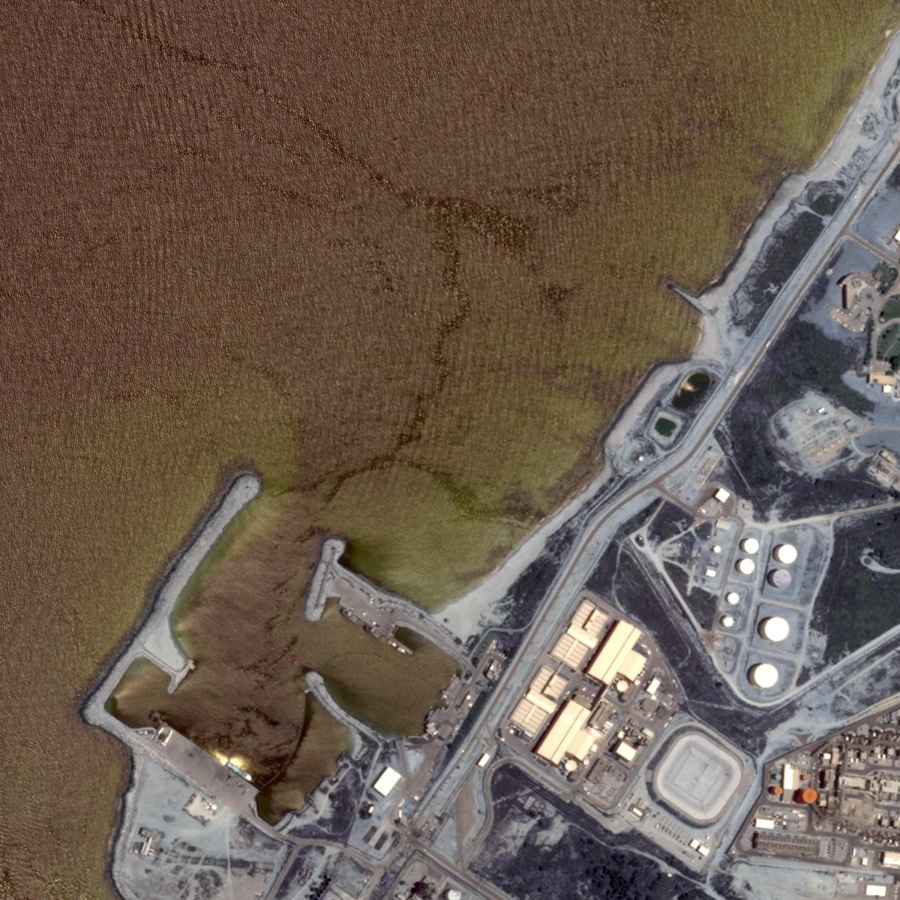PowerPlant: (638, 487, 870, 700)
